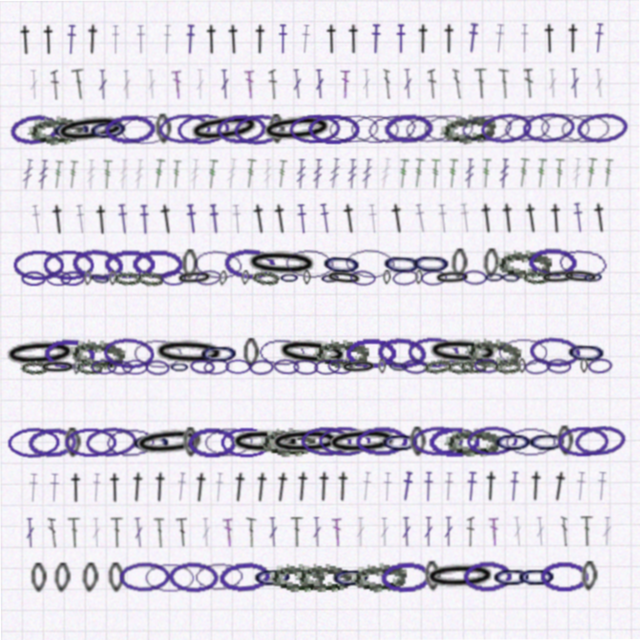chain: (186, 109, 264, 148), (53, 110, 130, 148), (259, 111, 336, 147), (274, 335, 351, 371), (131, 424, 208, 460), (2, 336, 78, 370), (324, 425, 400, 459), (244, 247, 320, 280), (151, 336, 227, 369), (425, 336, 501, 369), (267, 426, 343, 458), (422, 561, 497, 593), (228, 427, 303, 457), (439, 111, 498, 147), (27, 112, 85, 146), (68, 336, 126, 370), (464, 336, 522, 370), (349, 560, 407, 594), (9, 111, 62, 147), (365, 111, 419, 146), (573, 424, 627, 459), (71, 246, 124, 281), (404, 112, 458, 146), (460, 112, 514, 146), (528, 336, 582, 370), (480, 112, 533, 146), (576, 112, 629, 146), (192, 247, 245, 281), (556, 247, 609, 281), (217, 560, 270, 594), (177, 112, 231, 145), (522, 112, 576, 145), (102, 336, 156, 369), (84, 425, 138, 458), (233, 112, 285, 146), (502, 112, 554, 146), (376, 336, 428, 370), (223, 247, 276, 280), (344, 247, 397, 280), (259, 426, 315, 457), (284, 247, 336, 280), (120, 113, 173, 145), (289, 113, 342, 145), (328, 113, 381, 145), (423, 113, 476, 145), (496, 249, 552, 279), (313, 338, 369, 368), (444, 427, 500, 457), (268, 562, 324, 592), (295, 562, 351, 592), (104, 113, 156, 145), (216, 113, 268, 145), (43, 337, 95, 369), (379, 561, 431, 593), (407, 337, 460, 368), (7, 426, 60, 457), (384, 113, 435, 145), (560, 113, 611, 145), (132, 337, 183, 369), (27, 426, 78, 458), (159, 113, 211, 144), (540, 113, 592, 144), (318, 426, 370, 457), (355, 426, 407, 457), (411, 426, 463, 457), (466, 426, 518, 457), (118, 561, 170, 592), (167, 561, 219, 592), (220, 427, 273, 457), (104, 426, 155, 457), (203, 426, 254, 457), (300, 426, 351, 457), (193, 561, 244, 592), (308, 114, 360, 144), (13, 249, 65, 279), (64, 427, 116, 457), (504, 427, 556, 457), (557, 427, 609, 457), (528, 248, 578, 279), (257, 337, 307, 368), (462, 561, 512, 592), (43, 249, 94, 279), (104, 249, 155, 279), (132, 249, 183, 279), (345, 338, 396, 368), (497, 338, 548, 368), (428, 427, 479, 457), (143, 562, 194, 592), (350, 114, 400, 144), (187, 427, 237, 457), (539, 562, 589, 592), (87, 112, 131, 145), (320, 248, 364, 280), (51, 113, 94, 145), (381, 248, 424, 280), (565, 337, 608, 369), (329, 561, 372, 593), (410, 248, 453, 279), (251, 561, 293, 592), (198, 338, 240, 368), (130, 427, 172, 457), (379, 427, 421, 457), (492, 427, 534, 457), (526, 427, 568, 457), (490, 562, 532, 592), (515, 562, 557, 592), (325, 269, 363, 287), (176, 269, 213, 286), (562, 269, 599, 286), (434, 270, 471, 286), (540, 270, 577, 286), (340, 359, 377, 375), (422, 357, 452, 376), (155, 113, 173, 144), (556, 426, 574, 457), (423, 561, 441, 592), (39, 359, 76, 374), (269, 114, 286, 144), (451, 249, 468, 279), (483, 249, 500, 279), (64, 427, 81, 457), (182, 427, 199, 457), (409, 427, 426, 457), (53, 562, 70, 592), (81, 562, 98, 592), (107, 562, 124, 592), (580, 562, 597, 592), (251, 269, 280, 286), (392, 269, 419, 287), (524, 358, 551, 376), (182, 249, 198, 279), (243, 338, 259, 368), (30, 562, 46, 592), (195, 269, 222, 286), (203, 358, 230, 375), (273, 358, 300, 375), (473, 358, 500, 375), (136, 270, 164, 286), (446, 359, 474, 375), (493, 359, 521, 375), (189, 358, 215, 375), (327, 358, 353, 375), (587, 358, 613, 375), (401, 359, 428, 375), (113, 270, 141, 285), (522, 270, 550, 285), (20, 359, 48, 374), (75, 359, 103, 374), (459, 359, 487, 374), (350, 270, 376, 286), (421, 270, 447, 286), (107, 359, 133, 375), (314, 359, 340, 375), (89, 269, 112, 287), (462, 270, 487, 286), (145, 359, 170, 375), (249, 359, 274, 375), (293, 359, 318, 375), (546, 359, 571, 375), (46, 270, 72, 285), (91, 359, 117, 374), (122, 359, 148, 374), (225, 359, 251, 374), (21, 270, 46, 285), (60, 270, 85, 285), (161, 270, 186, 285), (387, 358, 409, 375), (500, 270, 522, 286), (320, 270, 341, 286), (583, 270, 604, 286), (279, 270, 300, 285), (484, 270, 505, 285), (169, 359, 190, 374), (218, 270, 228, 286), (72, 359, 82, 374), (241, 270, 250, 285), (84, 270, 92, 285), (109, 270, 117, 285), (303, 270, 311, 285), (383, 270, 391, 285), (415, 270, 423, 285), (378, 359, 386, 374), (518, 359, 526, 374), (580, 359, 588, 374)
double: (72, 68, 88, 99), (475, 69, 489, 99), (67, 517, 81, 547), (175, 517, 189, 547), (110, 517, 123, 547), (290, 517, 303, 547), (580, 517, 593, 547), (172, 69, 184, 99), (292, 69, 304, 99), (499, 69, 511, 99), (524, 69, 536, 99), (594, 69, 606, 99), (132, 517, 144, 547), (222, 517, 234, 547), (511, 517, 523, 547), (29, 69, 40, 99), (98, 69, 109, 99), (122, 69, 133, 99), (147, 69, 158, 99), (220, 69, 231, 99), (245, 69, 256, 99), (315, 69, 326, 99), (403, 69, 414, 99), (548, 69, 559, 99), (570, 69, 581, 99), (24, 517, 35, 547), (90, 517, 101, 547), (153, 517, 164, 547), (200, 517, 211, 547), (245, 517, 256, 547), (267, 517, 278, 547), (311, 517, 322, 547), (331, 517, 342, 547), (488, 517, 499, 547), (534, 517, 545, 547), (601, 517, 612, 547), (51, 69, 61, 99), (196, 69, 206, 99), (269, 69, 279, 99), (341, 69, 351, 99), (362, 69, 372, 99), (428, 69, 438, 99), (453, 69, 463, 99), (47, 517, 57, 547), (355, 517, 365, 547), (379, 517, 389, 547), (401, 517, 411, 547), (423, 517, 433, 547), (443, 517, 453, 547), (384, 69, 392, 99), (466, 517, 474, 547), (560, 517, 568, 547)
half_double: (548, 471, 570, 503), (271, 471, 292, 503), (190, 471, 210, 503), (229, 471, 249, 503), (251, 471, 271, 503), (157, 203, 177, 234), (250, 203, 270, 234), (271, 203, 291, 234), (340, 203, 360, 234), (388, 203, 408, 234), (522, 203, 542, 234), (127, 471, 147, 502), (292, 471, 312, 502), (84, 23, 103, 54), (49, 203, 68, 234), (478, 203, 497, 234), (499, 203, 518, 234), (591, 203, 610, 234), (150, 471, 169, 502), (314, 471, 333, 502), (333, 471, 352, 502), (481, 471, 500, 502), (526, 471, 545, 502), (252, 24, 270, 54), (415, 24, 433, 54), (441, 24, 459, 54), (565, 24, 583, 54), (93, 204, 111, 234), (18, 24, 35, 54), (41, 24, 58, 54), (204, 24, 221, 54), (226, 24, 243, 54), (324, 24, 341, 54), (346, 24, 363, 54), (542, 24, 559, 54), (548, 204, 565, 234), (67, 472, 84, 502), (106, 472, 123, 502), (413, 203, 429, 234), (466, 23, 481, 54), (116, 203, 131, 234), (318, 203, 333, 234), (458, 203, 473, 234), (399, 471, 414, 502), (30, 203, 44, 234), (74, 203, 88, 234), (185, 203, 199, 234), (208, 203, 222, 234), (572, 203, 586, 234), (174, 471, 188, 502), (359, 471, 373, 502), (493, 24, 507, 54), (230, 204, 244, 234), (464, 472, 478, 502), (573, 472, 587, 502), (594, 472, 608, 502), (300, 24, 313, 54), (370, 24, 383, 54), (593, 24, 606, 54), (296, 204, 309, 234), (367, 204, 380, 234), (437, 204, 450, 234), (26, 472, 39, 502), (47, 472, 60, 502), (212, 472, 225, 502), (507, 472, 520, 502), (66, 24, 78, 54), (162, 24, 174, 54), (185, 24, 197, 54), (139, 204, 151, 234), (90, 472, 102, 502), (381, 472, 393, 502), (422, 472, 434, 502), (442, 472, 454, 502), (111, 24, 122, 54), (136, 24, 147, 54), (278, 24, 289, 54), (396, 24, 407, 54), (520, 24, 531, 54)
treble: (21, 158, 35, 189), (152, 158, 166, 189), (225, 158, 239, 189), (244, 158, 258, 189), (328, 158, 342, 189), (379, 158, 393, 189), (412, 158, 426, 189), (517, 158, 531, 189), (585, 158, 598, 189), (37, 159, 50, 189), (52, 159, 65, 189), (67, 159, 80, 189), (133, 159, 146, 189), (206, 159, 219, 189), (276, 159, 289, 189), (361, 159, 374, 189), (397, 159, 410, 189), (498, 159, 511, 189), (535, 159, 548, 189), (602, 159, 615, 189), (102, 159, 114, 189), (118, 159, 130, 189), (171, 159, 183, 189), (189, 159, 201, 189), (312, 159, 324, 189), (430, 159, 442, 189), (447, 159, 459, 189), (464, 159, 476, 189), (554, 159, 566, 189), (571, 159, 583, 189), (86, 159, 97, 189), (296, 159, 307, 189), (347, 159, 358, 189), (481, 159, 492, 189), (263, 159, 273, 189)
